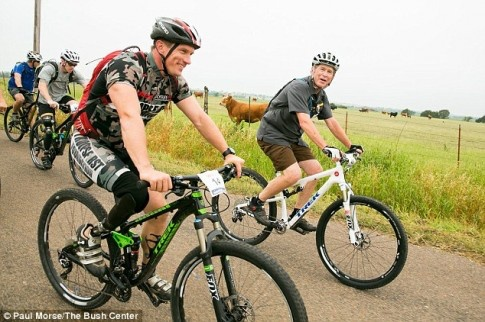helmet: (151, 13, 202, 82), (307, 46, 343, 93), (55, 47, 84, 75)
